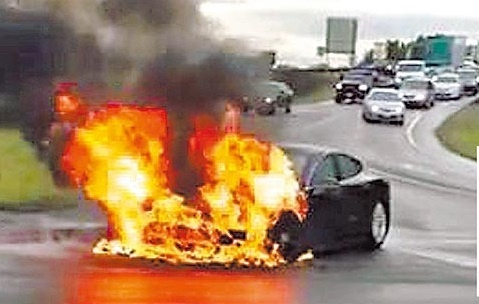fire: (62, 99, 309, 266)
